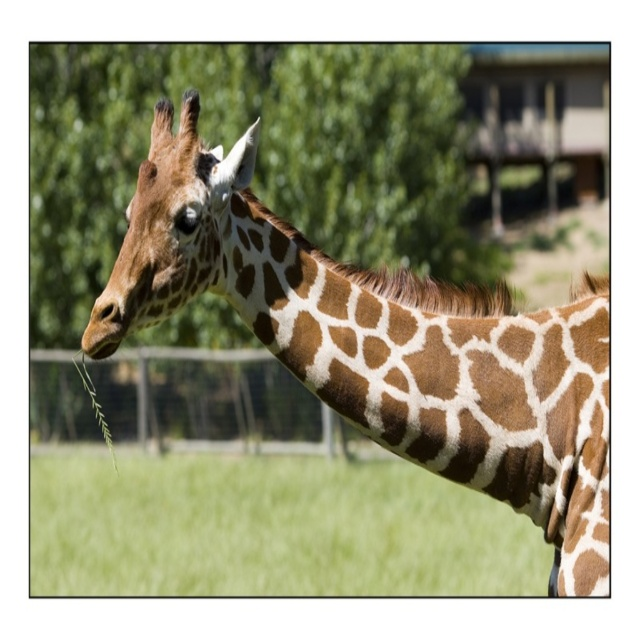Giraffe: (79, 81, 613, 596)
